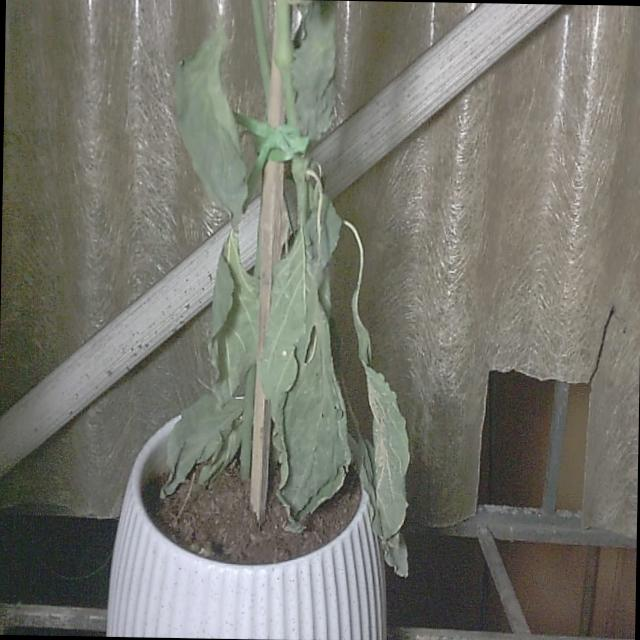Leaf: (268, 280, 354, 534), (346, 283, 416, 576)
